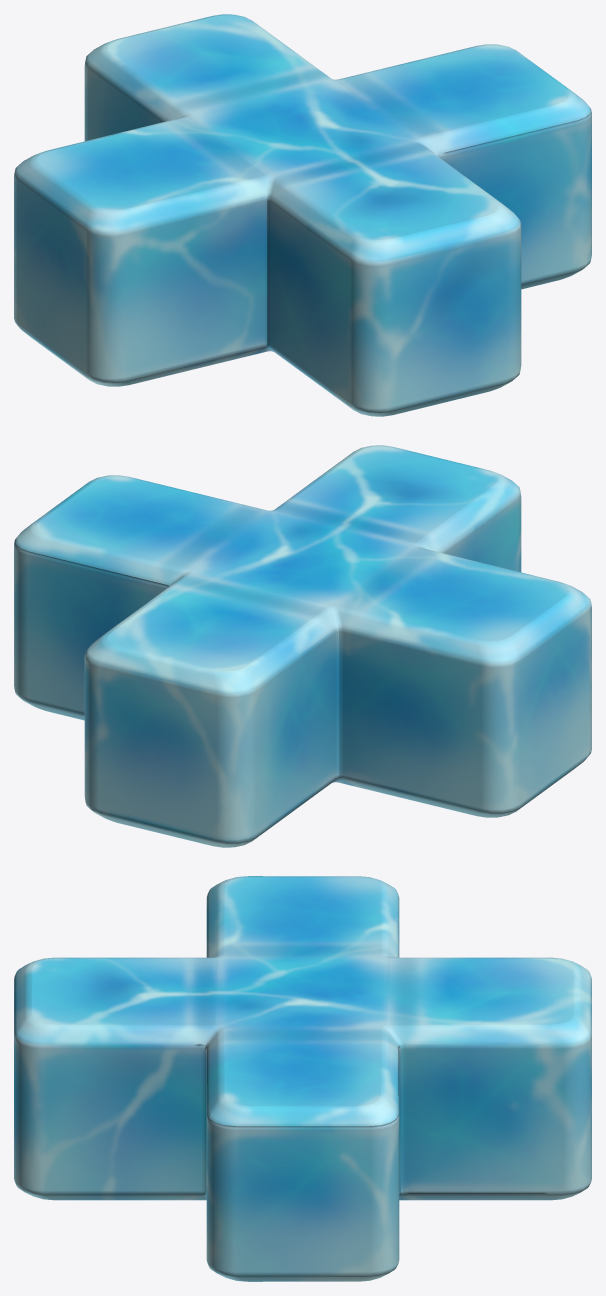
File: Ice_Block_03.fbx
3 views of the same model, one above another, from view 1: azimuth 30°, elevation 25°; view 2: azimuth 150°, elevation 25°; view 3: azimuth 270°, elevation 25° (orthographic).
Visible parts, largest first — view 1: Ice_Block_03; view 2: Ice_Block_03; view 3: Ice_Block_03.
Part boxes in pixels (bbox=[...]): Ice_Block_03: bbox=[14, 14, 591, 416]; Ice_Block_03: bbox=[14, 445, 591, 847]; Ice_Block_03: bbox=[14, 876, 591, 1281].
Bounding box in the file's own units: 3 × 1 × 3.
Materials: 1 (1 with a texture image).
